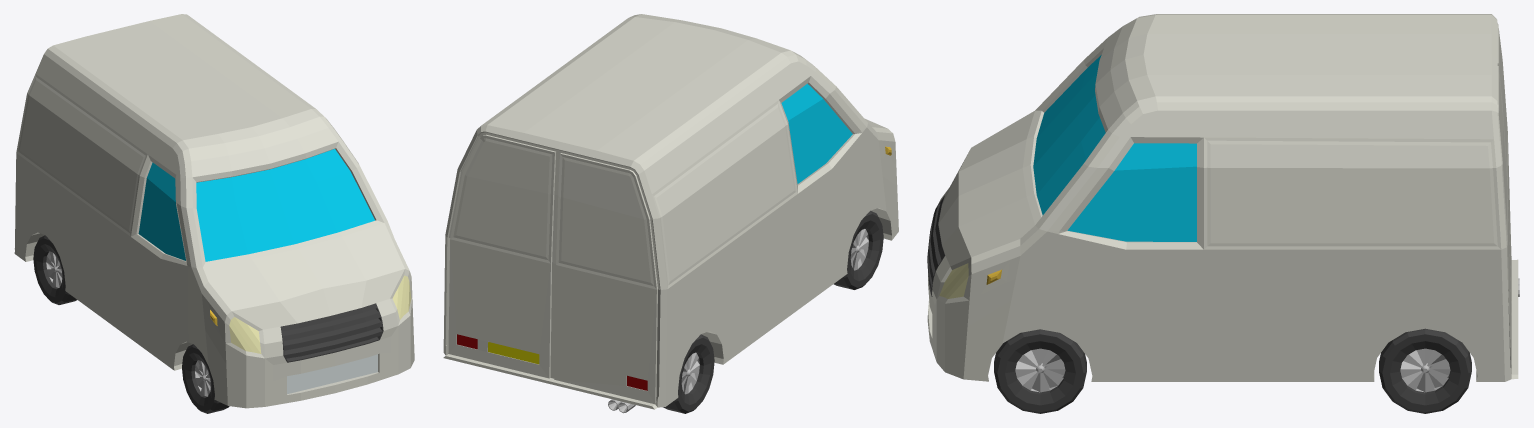
File: LowPolyVan_LODs.fbx
The picture shows the model from 3 angles, left to right: view 1: azimuth 30°, elevation 25°; view 2: azimuth 150°, elevation 25°; view 3: azimuth 270°, elevation 25°; orthographic projection. The views are drawn at different scales.
Parts seen in each view (by area): view 1: Chassis_LOD0, WheelsFront_LOD0, WheelsBack_LOD0; view 2: Chassis_LOD0, WheelsBack_LOD0, WheelsFront_LOD0; view 3: Chassis_LOD0, WheelsBack_LOD0, WheelsFront_LOD0.
Part boxes in pixels (bbox=[...]): Chassis_LOD0: bbox=[14, 14, 414, 408]; WheelsFront_LOD0: bbox=[182, 344, 229, 413]; WheelsBack_LOD0: bbox=[33, 235, 76, 304]; Chassis_LOD0: bbox=[443, 14, 898, 413]; WheelsBack_LOD0: bbox=[663, 334, 714, 413]; WheelsFront_LOD0: bbox=[833, 210, 883, 289]; Chassis_LOD0: bbox=[927, 14, 1519, 381]; WheelsBack_LOD0: bbox=[1379, 328, 1471, 413]; WheelsFront_LOD0: bbox=[994, 329, 1086, 413].
Size of what is drawn, in the model's own units: 221 by 251 by 446.
